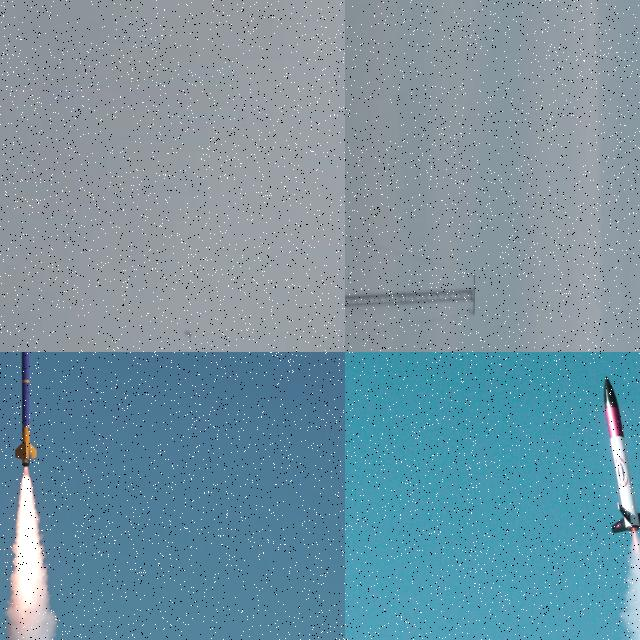Rocket: (600, 374, 640, 534), (10, 352, 40, 467), (184, 330, 192, 339)
